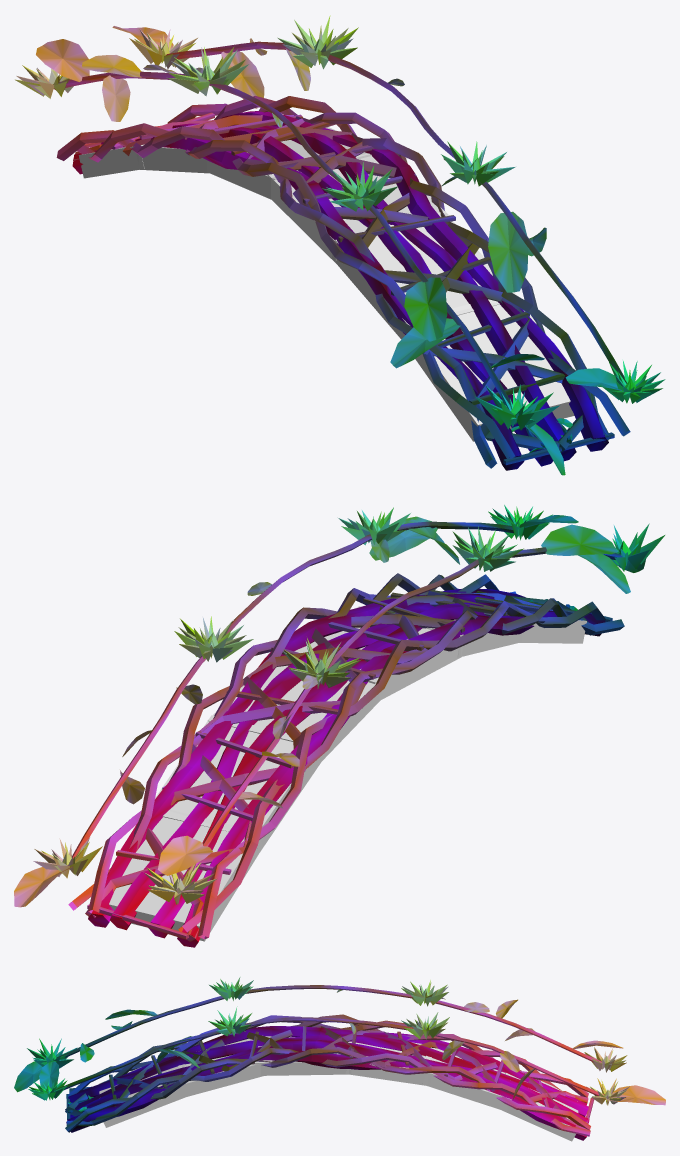
The model's file is Plant_Bridge_05.fbx.
3 views of the same model, one above another, from view 1: azimuth 30°, elevation 25°; view 2: azimuth 150°, elevation 25°; view 3: azimuth 270°, elevation 25° (orthographic). The views are drawn at different scales.
Parts seen in each view (by area): view 1: Plant_Bridge_05, COL_05_0, COL_05_1, COL_05_2, COL_05_3, COL_05_5, COL_05_4; view 2: Plant_Bridge_05, COL_05_5, COL_05_4, COL_05_3, COL_05_2, COL_05_0, COL_05_1; view 3: Plant_Bridge_05, COL_05_4, COL_05_1, COL_05_2, COL_05_3, COL_05_0, COL_05_5.
Part boxes in pixels (x1,y1,x2,y2): Plant_Bridge_05: (15, 15, 665, 475); COL_05_0: (405, 292, 574, 441); COL_05_1: (332, 211, 513, 339); COL_05_2: (267, 153, 452, 262); COL_05_3: (207, 127, 371, 199); COL_05_5: (78, 144, 144, 178); COL_05_4: (136, 147, 208, 173); Plant_Bridge_05: (14, 505, 664, 947); COL_05_5: (109, 809, 263, 941); COL_05_4: (155, 715, 320, 851); COL_05_3: (207, 665, 380, 763); COL_05_2: (294, 606, 462, 700); COL_05_0: (519, 620, 586, 643); COL_05_1: (425, 619, 522, 657); Plant_Bridge_05: (14, 977, 665, 1140); COL_05_4: (422, 1048, 511, 1111); COL_05_1: (178, 1035, 265, 1096); COL_05_2: (255, 1036, 351, 1075); COL_05_3: (345, 1041, 431, 1086); COL_05_0: (99, 1064, 190, 1127); COL_05_5: (502, 1072, 578, 1141).
Bounding box in the file's own units: 3.12 × 2.99 × 13.69.
